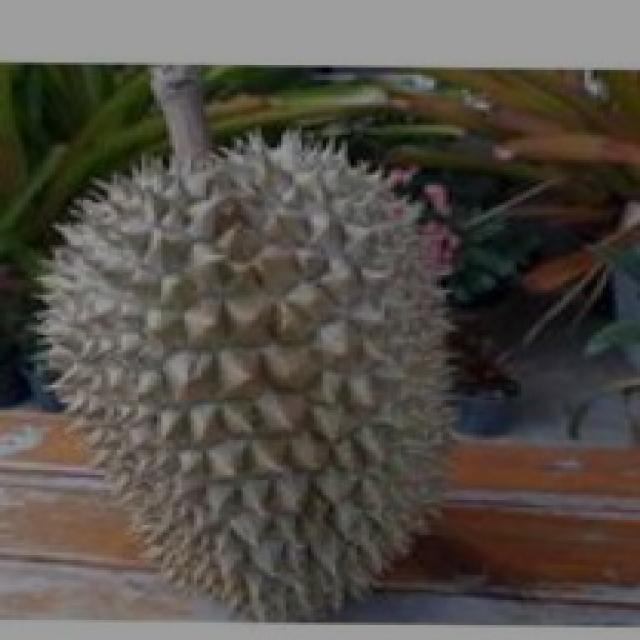fruit: (0, 107, 338, 497)
